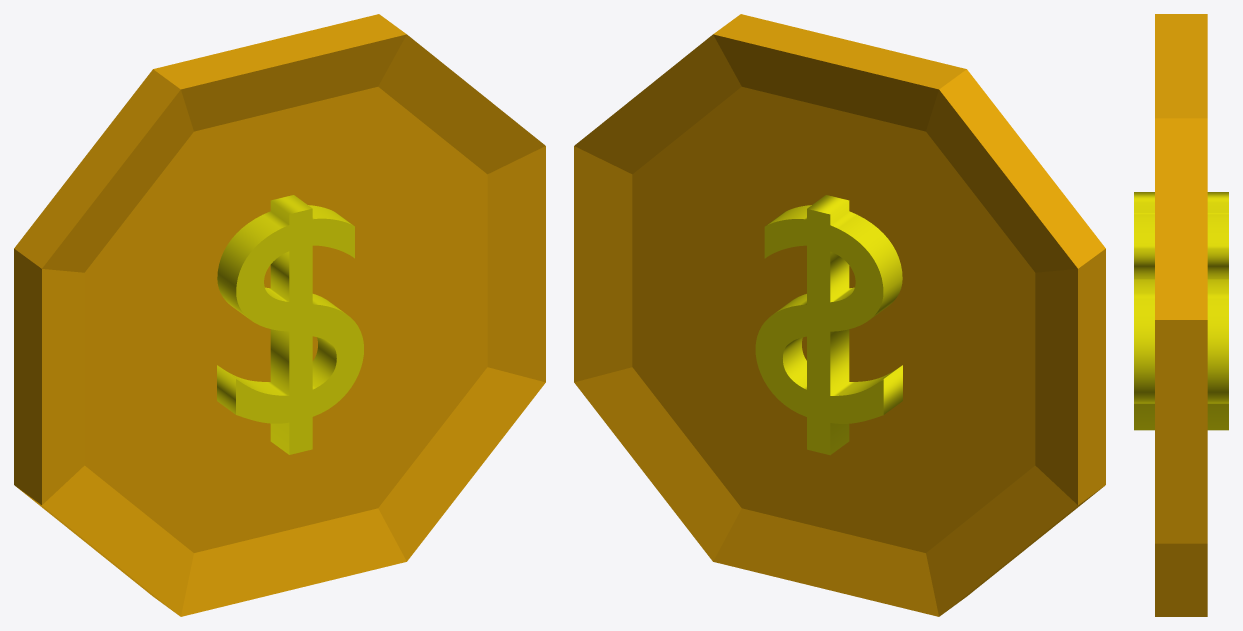
File: coinmodel.glb
3 views of the same model, side by side, from view 1: azimuth 30°, elevation 25°; view 2: azimuth 150°, elevation 25°; view 3: azimuth 270°, elevation 25° (orthographic). The views are drawn at different scales.
Visible parts, largest first — view 1: Coin; view 2: Coin; view 3: Coin.
Boxes of the visible parts, <box> form: Coin: <box>14,14,545,616</box>; Coin: <box>574,14,1105,616</box>; Coin: <box>1134,14,1228,616</box>.
Size of the model in its own units: 2.27 by 2.27 by 0.3903.
